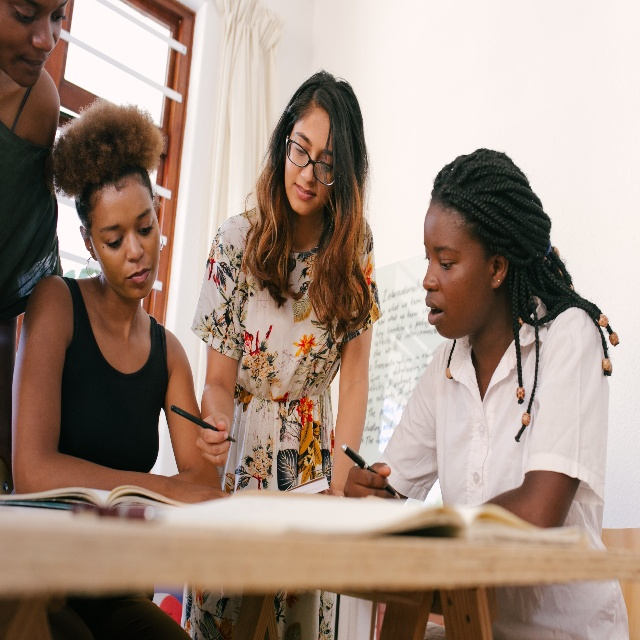Gafas: (285, 133, 342, 187)
Sin_guantes: (342, 460, 392, 498), (196, 414, 231, 466), (171, 478, 233, 504)
